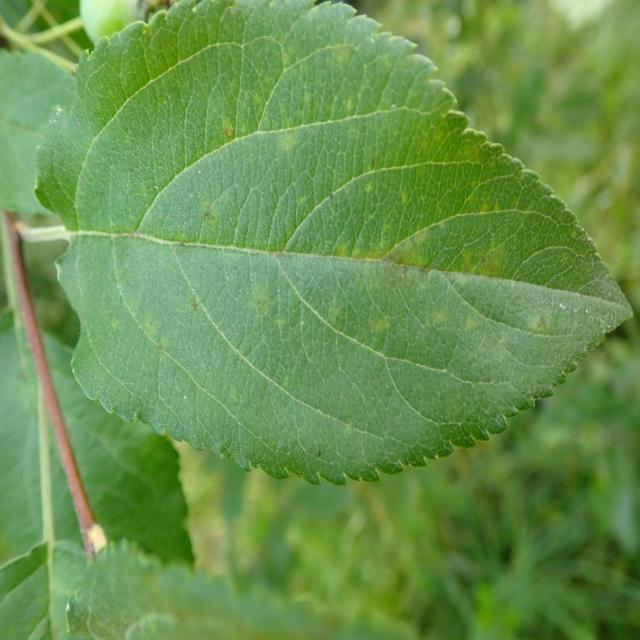scab: (66, 71, 624, 439)
